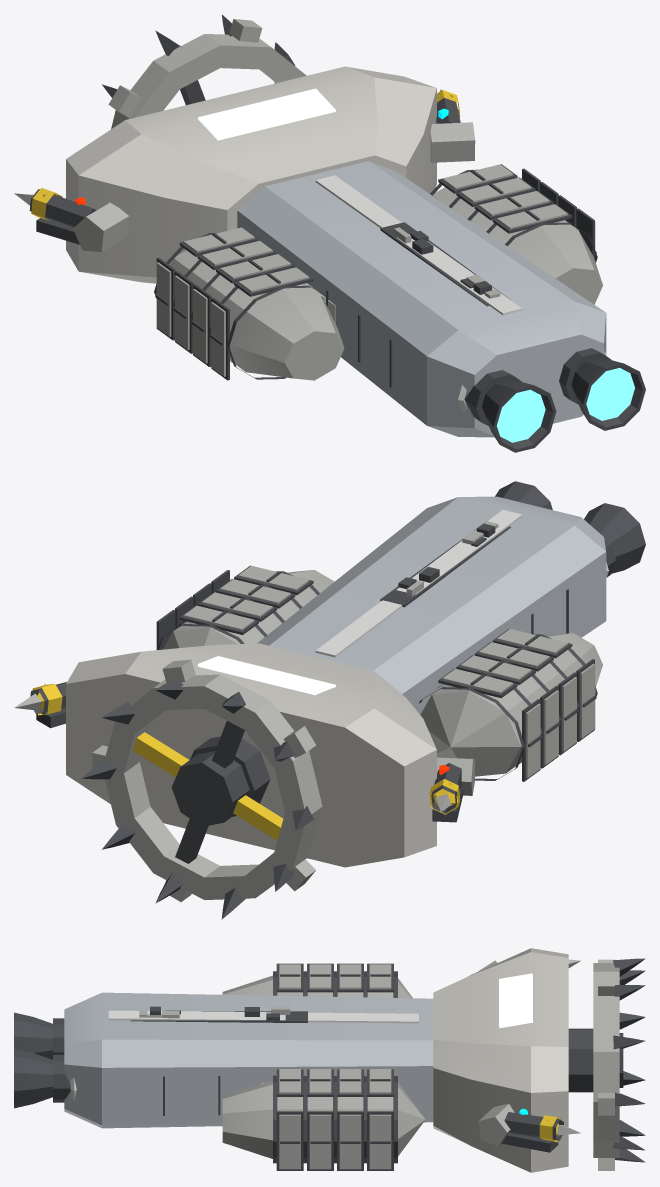
Rendered from excavator.glb.
The picture shows the model from 3 angles, top to bottom: view 1: azimuth 30°, elevation 25°; view 2: azimuth 150°, elevation 25°; view 3: azimuth 270°, elevation 25°; orthographic projection. The views are drawn at different scales.
Parts seen in each view (by area): view 1: Hull, Rotor_Wheel; view 2: Hull, Rotor_Wheel; view 3: Hull, Rotor_Wheel.
Boxes of the visible parts, x1=… form: Hull: x1=29, y1=66, x2=645, y2=452; Rotor_Wheel: x1=102, y1=14, x2=306, y2=128; Hull: x1=30, y1=481, x2=645, y2=867; Rotor_Wheel: x1=81, y1=659, x2=322, y2=919; Hull: x1=14, y1=948, x2=593, y2=1172; Rotor_Wheel: x1=593, y1=958, x2=645, y2=1170.
Bounding box in the file's own units: 1.29 × 0.681 × 2.
